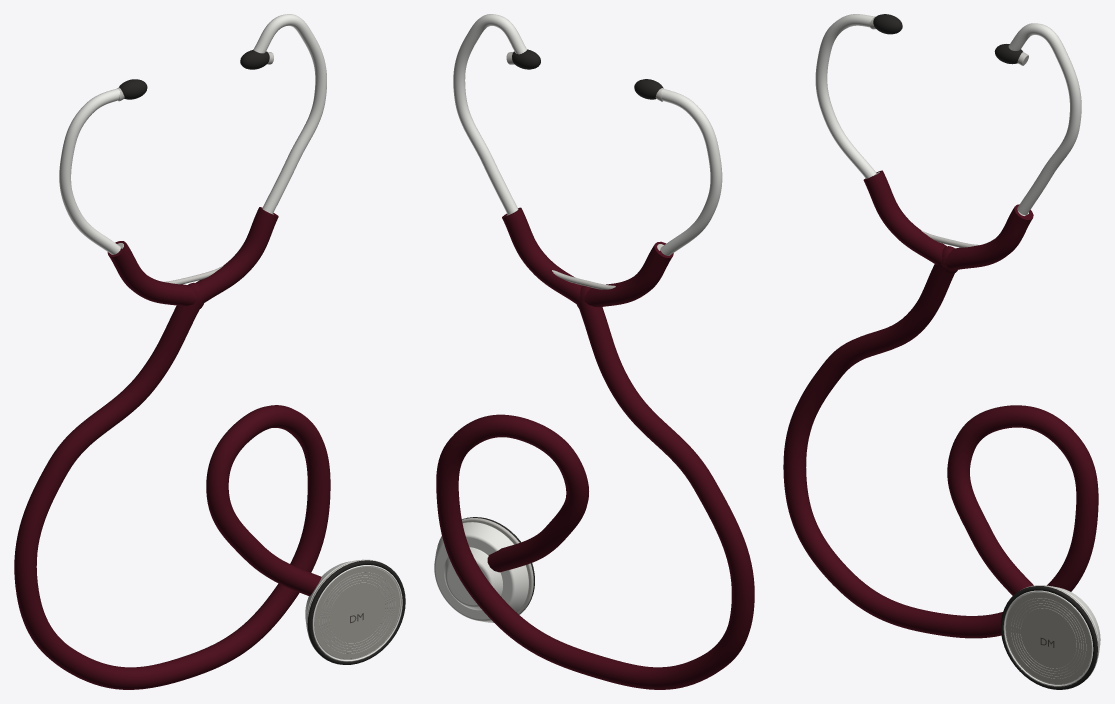
Rendered from stethoscope.glb.
The picture shows the model from 3 angles, left to right: view 1: azimuth 30°, elevation 25°; view 2: azimuth 150°, elevation 25°; view 3: azimuth 330°, elevation 25°; orthographic projection.
Visible parts, largest first — view 1: Stethoscope; view 2: Stethoscope; view 3: Stethoscope.
Part boxes in pixels (x1,y1,x2,y2): Stethoscope: (14, 14, 405, 689); Stethoscope: (434, 14, 754, 689); Stethoscope: (783, 14, 1100, 689).
Size of the model in its own units: 3.73 by 6.46 by 0.8763.
